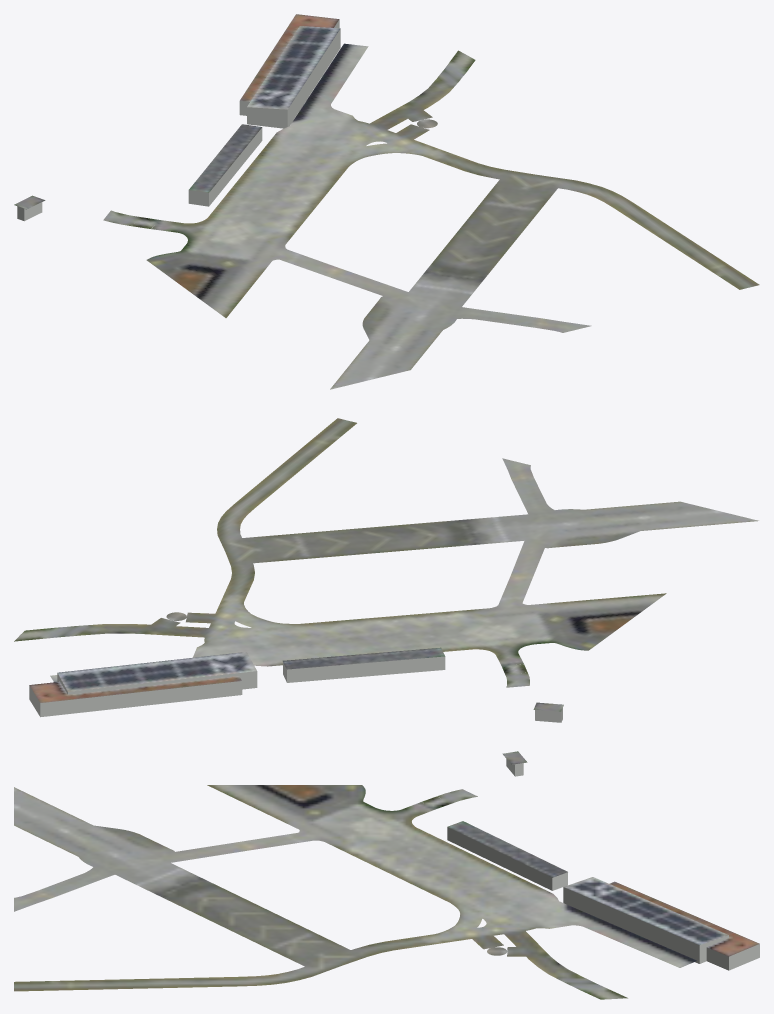
Rendered from LSMP_2_2.glb.
3 views of the same model, one above another, from view 1: azimuth 30°, elevation 25°; view 2: azimuth 150°, elevation 25°; view 3: azimuth 270°, elevation 25° (orthographic). The views are drawn at different scales.
Visible parts, largest first — view 1: pavement_LSMP_pavement_5122_2378, building_6b4f1cd7f33640d4, building_28938c530303605d, building_e019148016816e66, building_c4dd8ab7e8356439; view 2: pavement_LSMP_pavement_5122_2378, building_6b4f1cd7f33640d4, building_28938c530303605d, building_c4dd8ab7e8356439, building_e019148016816e66; view 3: pavement_LSMP_pavement_5122_2378, building_6b4f1cd7f33640d4, building_28938c530303605d, building_c4dd8ab7e8356439, building_e019148016816e66.
Boxes of the visible parts, x1,y1,x2,y2 form: pavement_LSMP_pavement_5122_2378: (103, 43, 759, 389); building_6b4f1cd7f33640d4: (240, 14, 340, 109); building_28938c530303605d: (239, 19, 340, 128); building_e019148016816e66: (14, 124, 262, 209); building_c4dd8ab7e8356439: (17, 128, 262, 221); pavement_LSMP_pavement_5122_2378: (14, 418, 758, 687); building_6b4f1cd7f33640d4: (29, 652, 256, 703); building_28938c530303605d: (29, 671, 257, 717); building_c4dd8ab7e8356439: (283, 656, 562, 722); building_e019148016816e66: (282, 647, 563, 711); pavement_LSMP_pavement_5122_2378: (14, 785, 696, 999); building_6b4f1cd7f33640d4: (563, 877, 759, 956); building_28938c530303605d: (563, 887, 759, 970); building_c4dd8ab7e8356439: (447, 759, 567, 890); building_e019148016816e66: (447, 751, 567, 877).
Size of the model in its own units: 373 by 13.76 by 491.
Materials: 3 (2 with a texture image).
